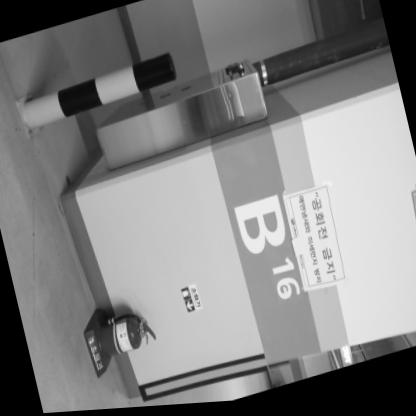FE: (79, 298, 160, 381)
